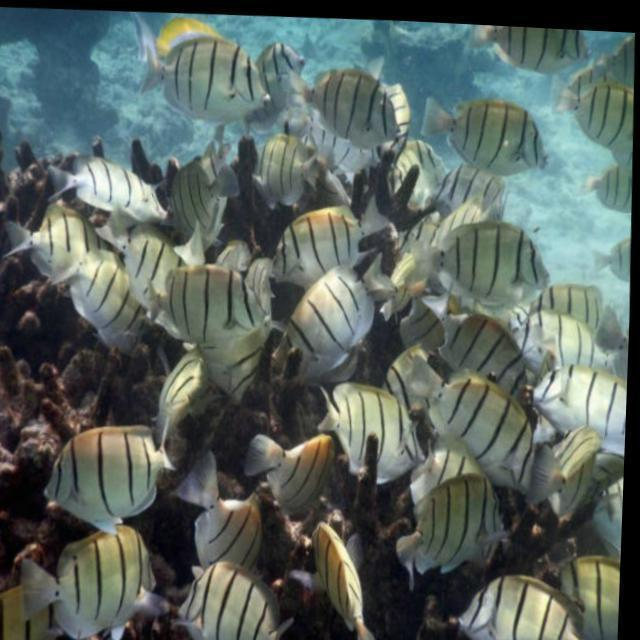Dead Coral: (0, 280, 57, 499)
